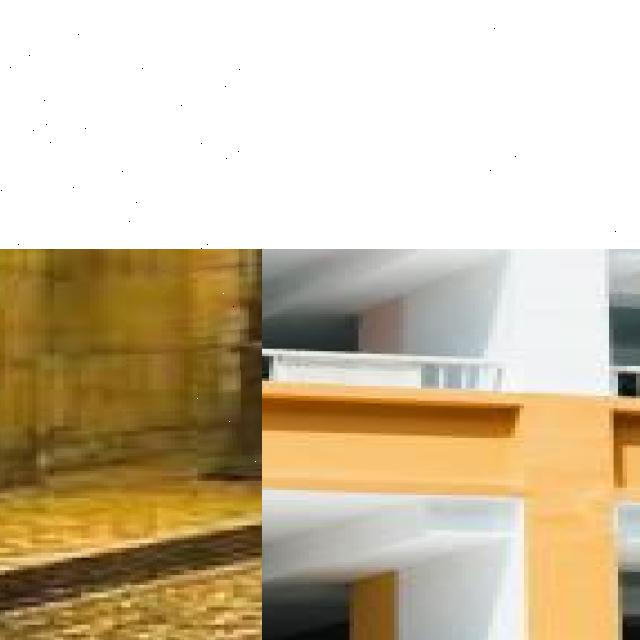street light: (0, 0, 262, 249), (471, 0, 640, 249), (197, 249, 262, 473)
